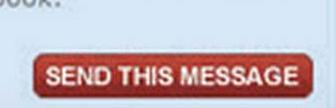button: (32, 52, 319, 103)
